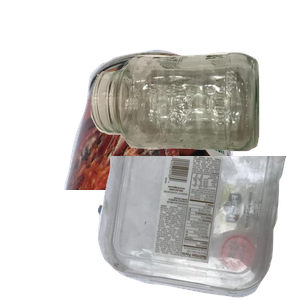glass: (88, 50, 300, 194)
metal: (62, 47, 300, 227)
plastic: (95, 156, 300, 300)
trash: (95, 157, 282, 300)
